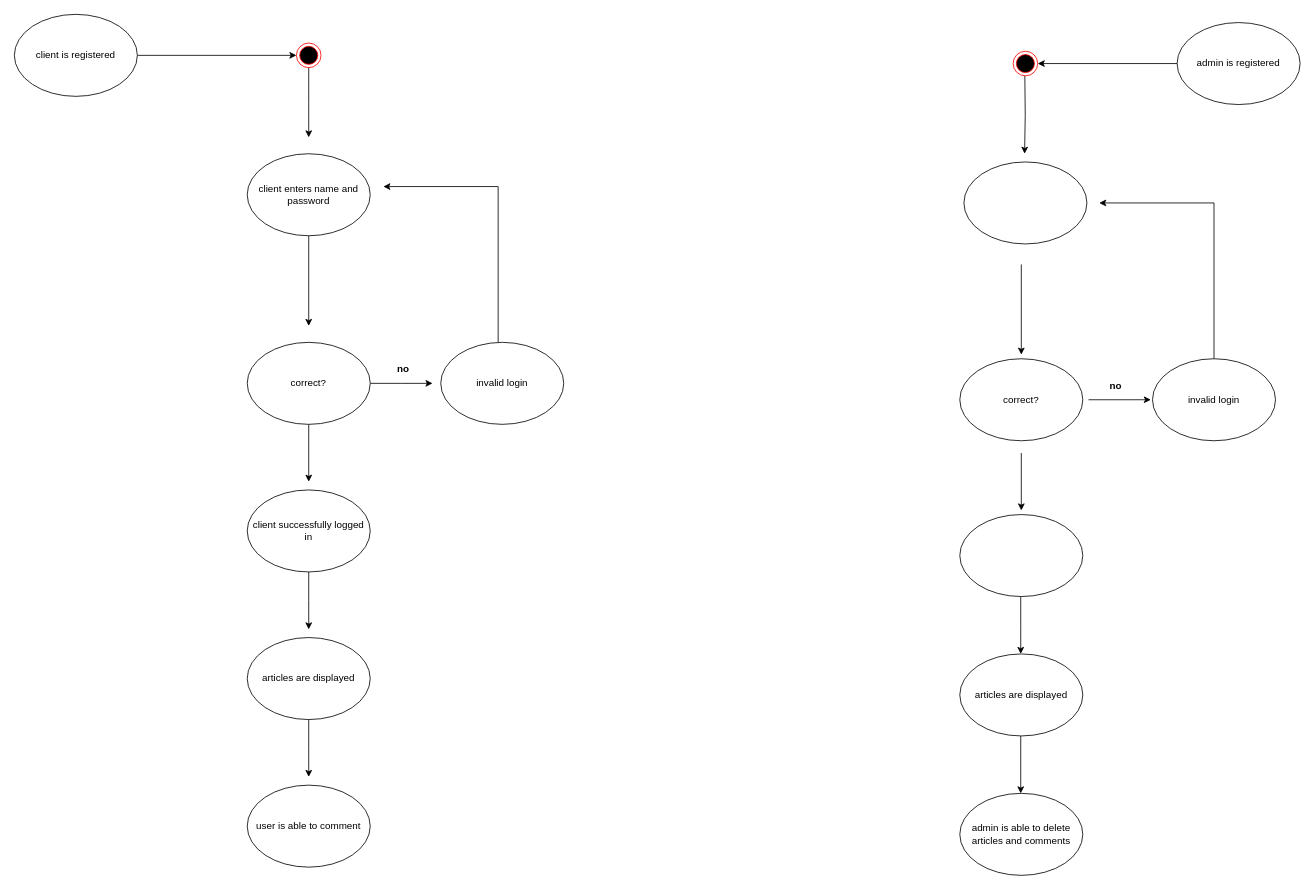
This 1314x890 diagram has some shape labels left out. Each missing label, with the box of its shape:
admin enters name and password: (963, 161, 1087, 244)
admin successfully logged in: (959, 514, 1083, 597)
